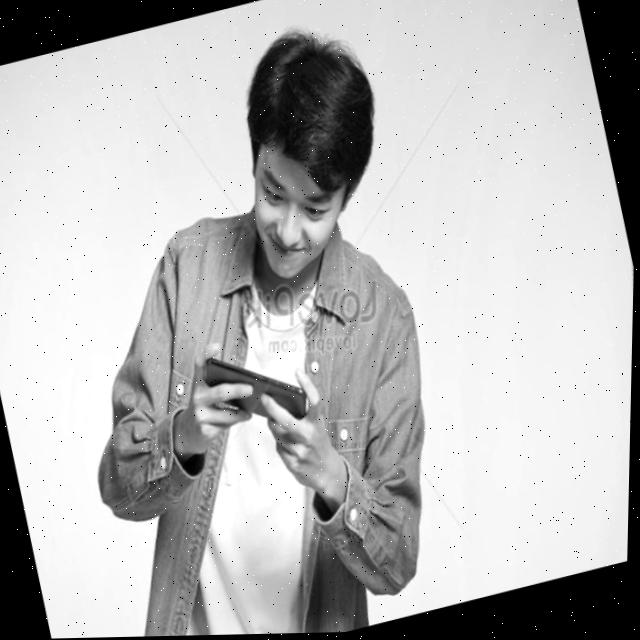phone: (192, 333, 323, 445)
